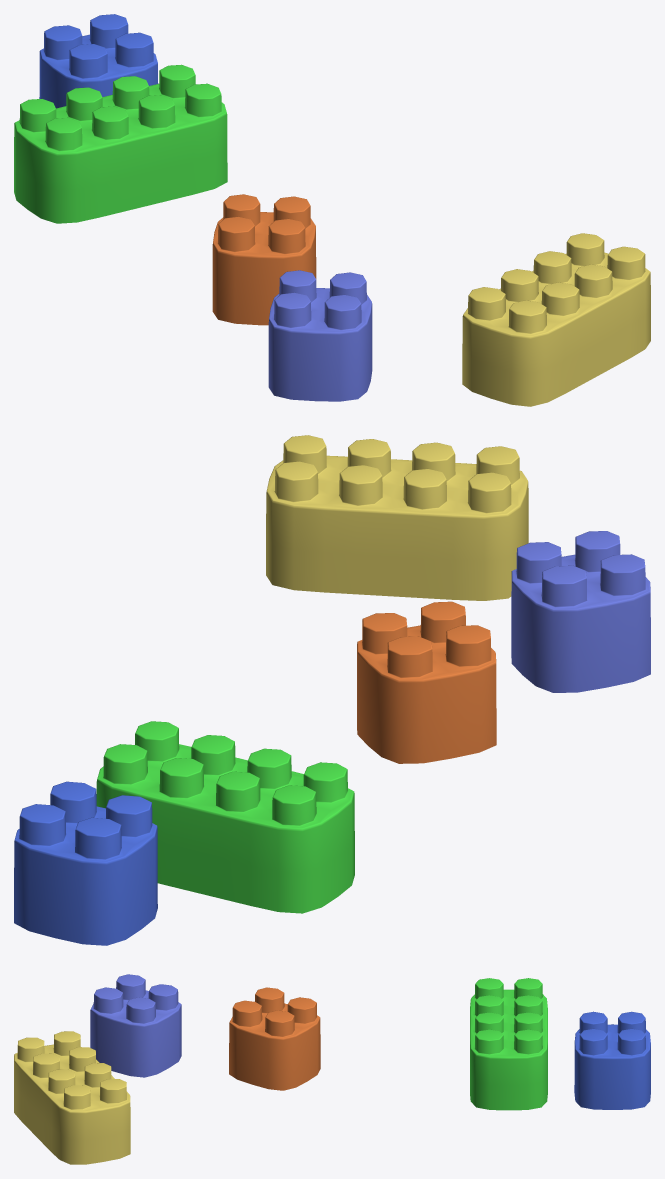
Rendered from lego.fbx.
3 renders of one model, top to bottom at view 1: azimuth 30°, elevation 25°; view 2: azimuth 150°, elevation 25°; view 3: azimuth 270°, elevation 25°, orthographic. The views are drawn at different scales.
Parts seen in each view (by area): view 1: Cube.030, Cube.018, Cube.017, Cube.016, Cube.031; view 2: Cube.018, Cube.030, Cube.031, Cube.017, Cube.016; view 3: Cube.018, Cube.030, Cube.016, Cube.017, Cube.031.
Part boxes in pixels (x1,y1,x2,y2): Cube.030: (14, 64, 227, 223); Cube.018: (462, 233, 650, 406); Cube.017: (268, 270, 372, 401); Cube.016: (212, 194, 316, 325); Cube.031: (39, 14, 158, 108); Cube.018: (266, 435, 528, 600); Cube.030: (96, 721, 354, 913); Cube.031: (14, 781, 157, 945); Cube.017: (511, 531, 650, 692); Cube.016: (357, 601, 496, 763); Cube.018: (14, 1031, 130, 1164); Cube.030: (470, 978, 547, 1110); Cube.016: (229, 987, 320, 1090); Cube.017: (90, 974, 181, 1077); Cube.031: (574, 1011, 650, 1109).
Bounding box in the file's own units: 65.33 × 16.36 × 141.
